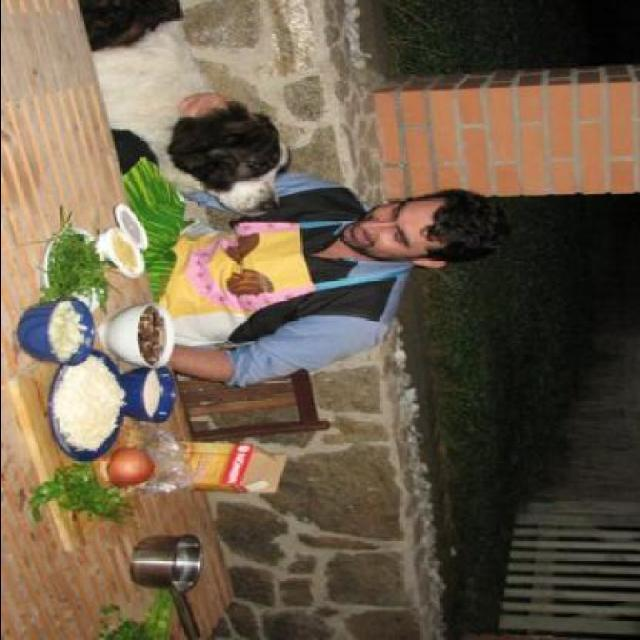Risotto: (54, 362, 120, 440)
